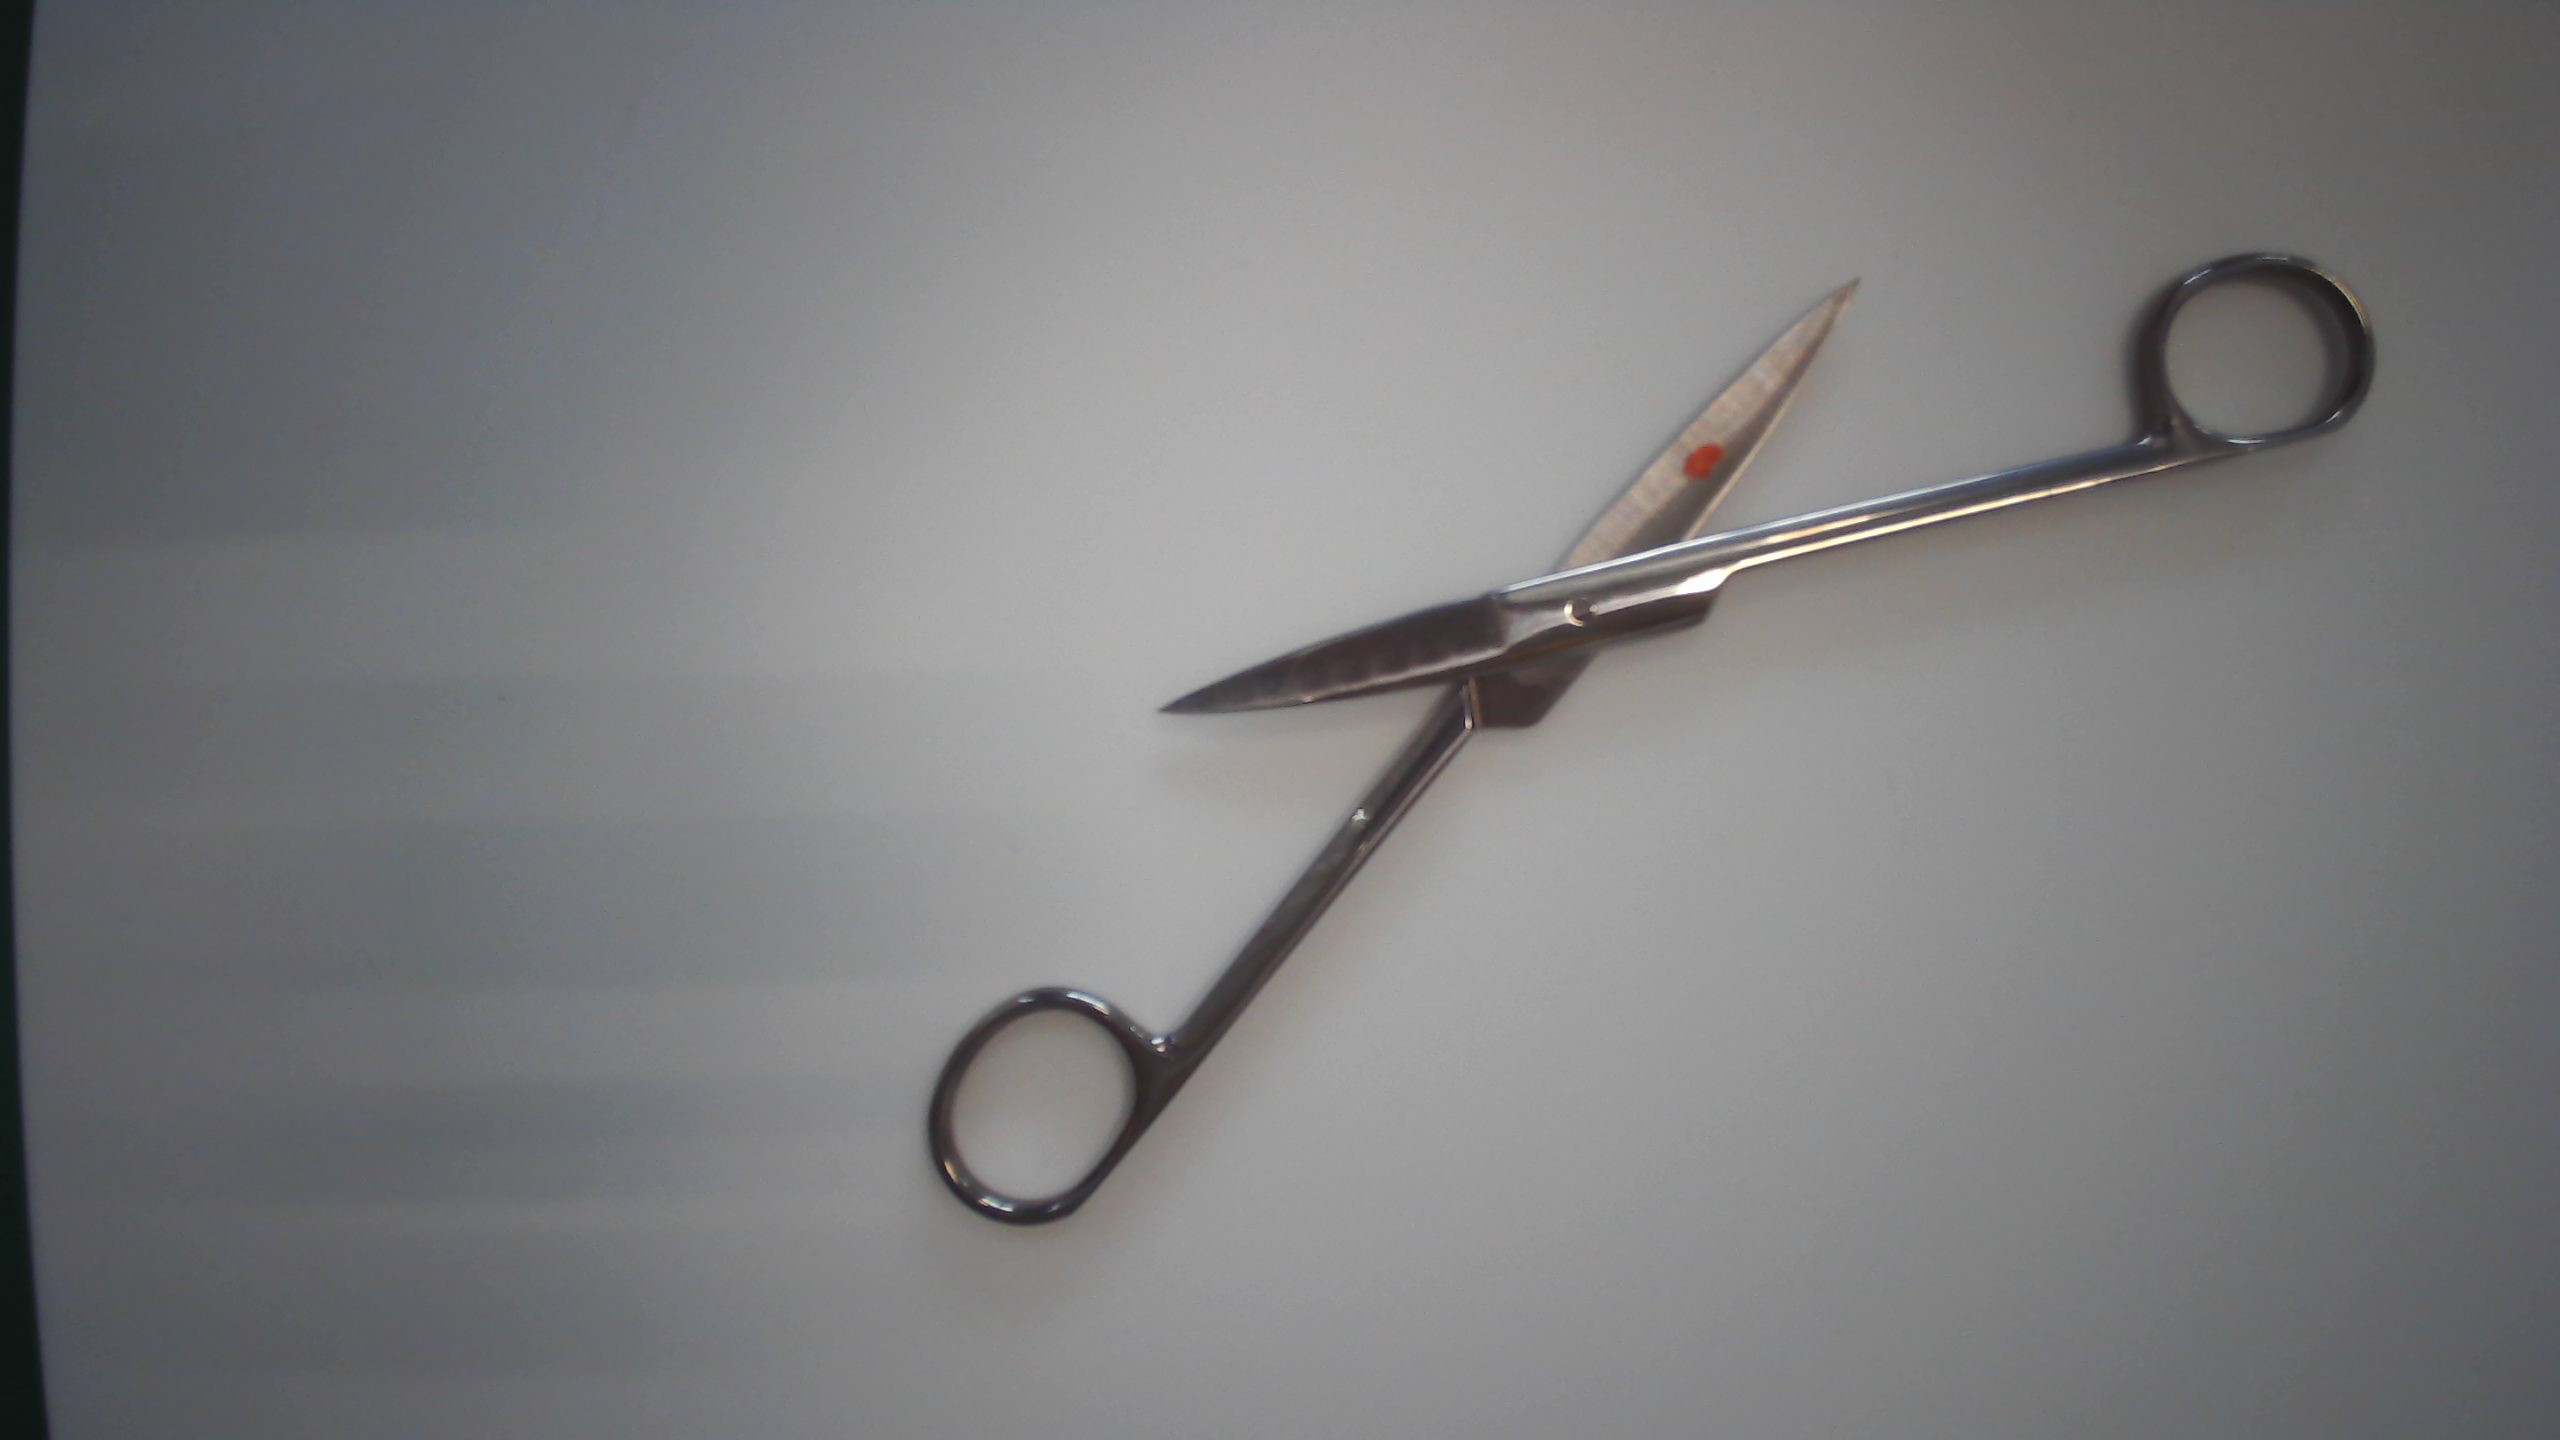Stain: (1667, 441, 1730, 485)
